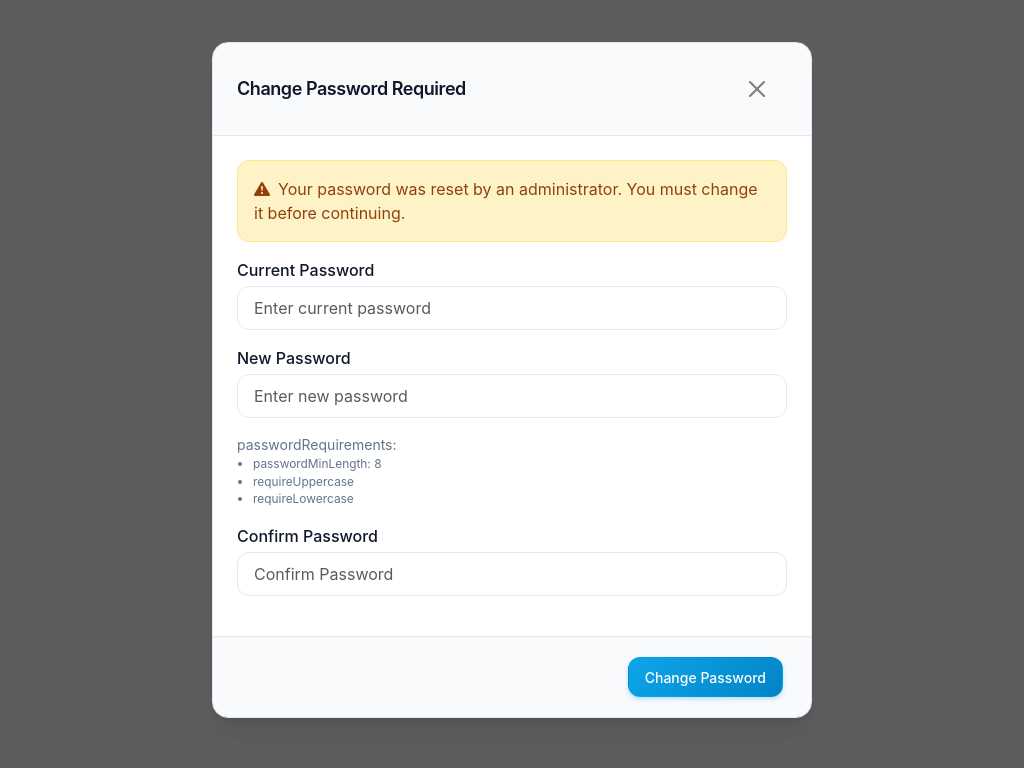
Test case: ForceChangePasswordModal › Form Validation › should show error when new password is too short
Type "oldPassword123" into the password field named "current-password". click: (512, 308)
box: x1=237 y1=286 x2=787 y2=330
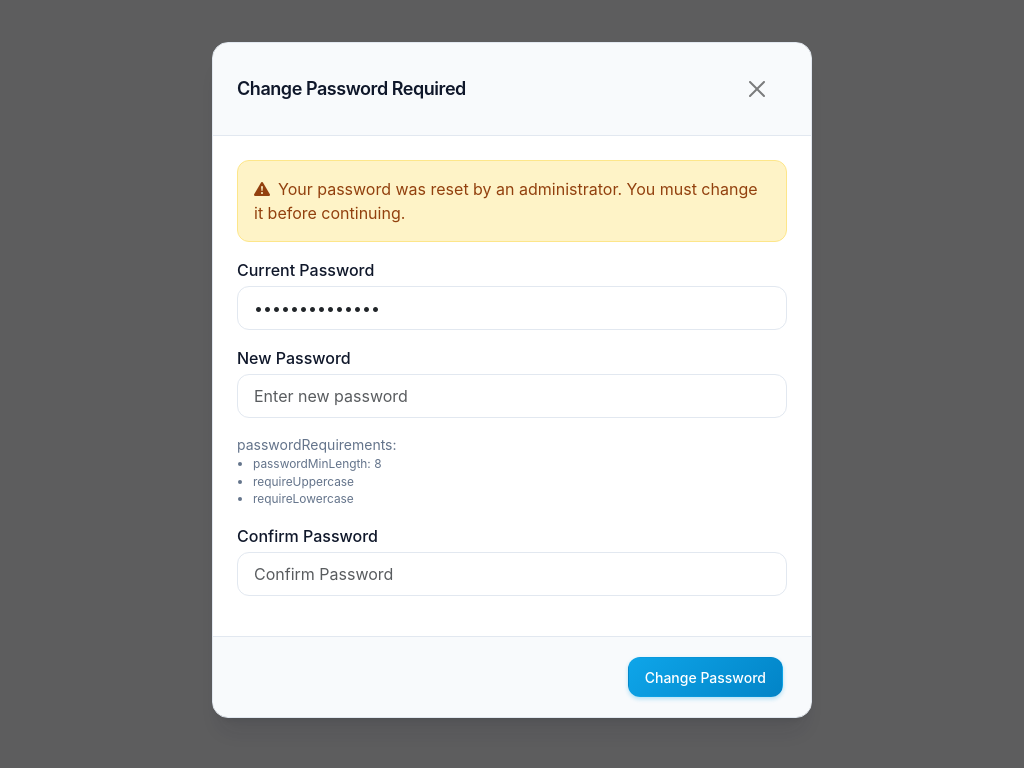
Type "short" into the password field named "new-password". click: (512, 396)
box: x1=237 y1=374 x2=787 y2=418
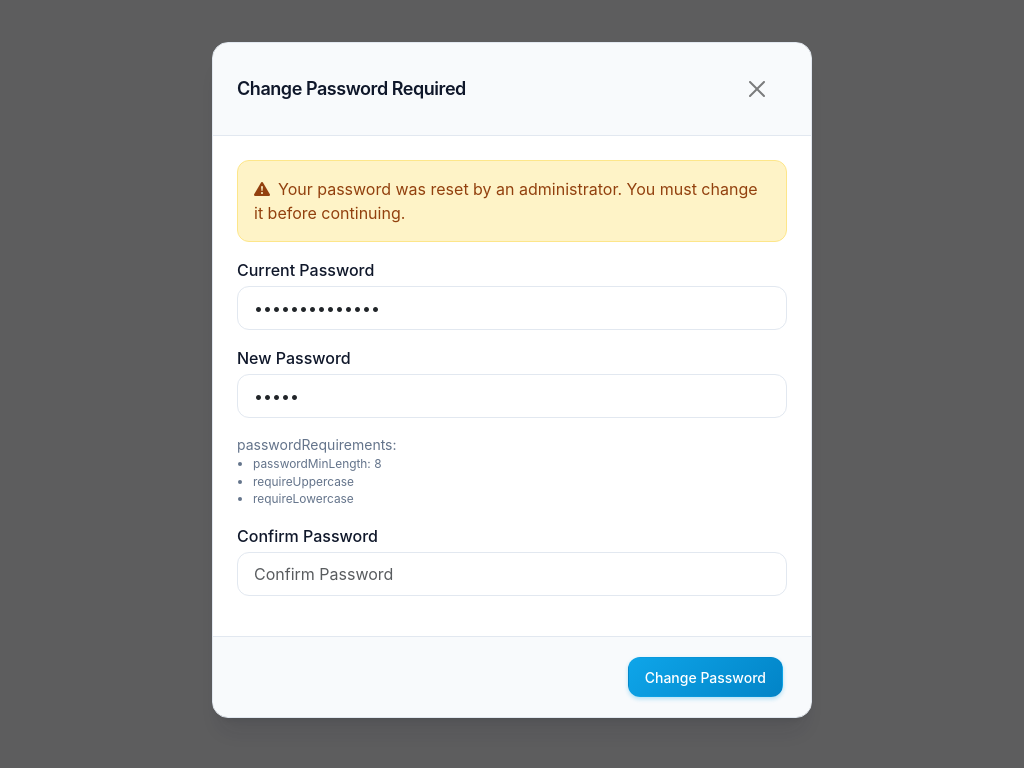
Click the button "Change Password". click: (705, 677)
box: x1=628 y1=657 x2=783 y2=697
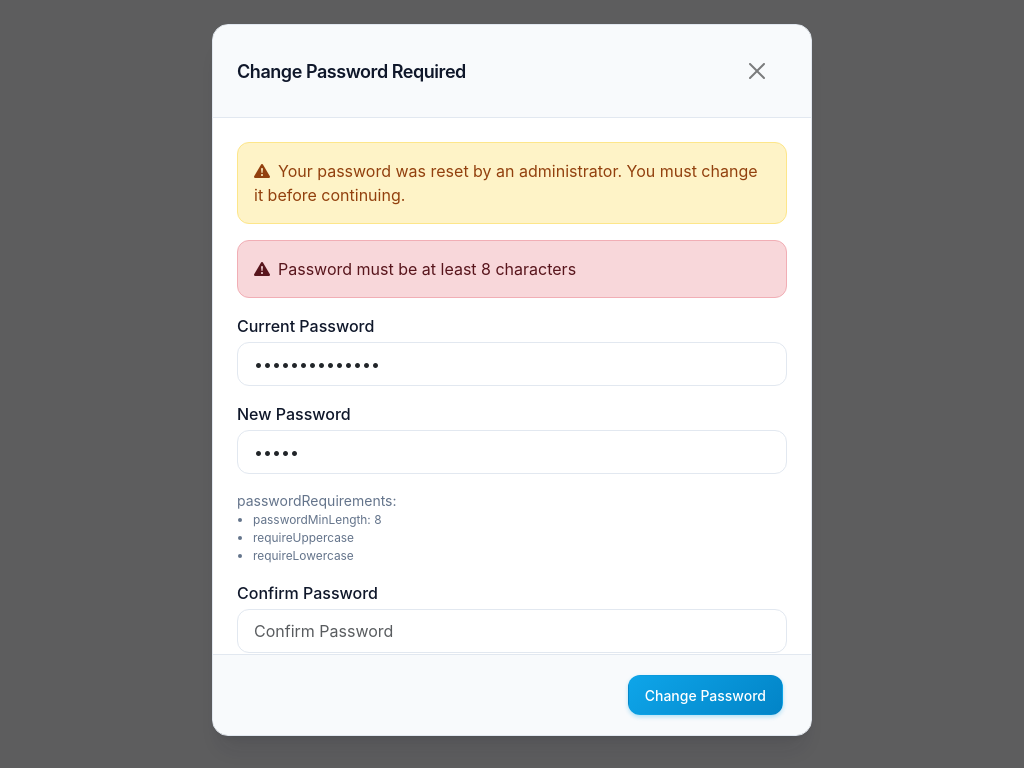
Check: the text "Password must be at least 8 characters" is shown, box x1=237 y1=240 x2=787 y2=298
